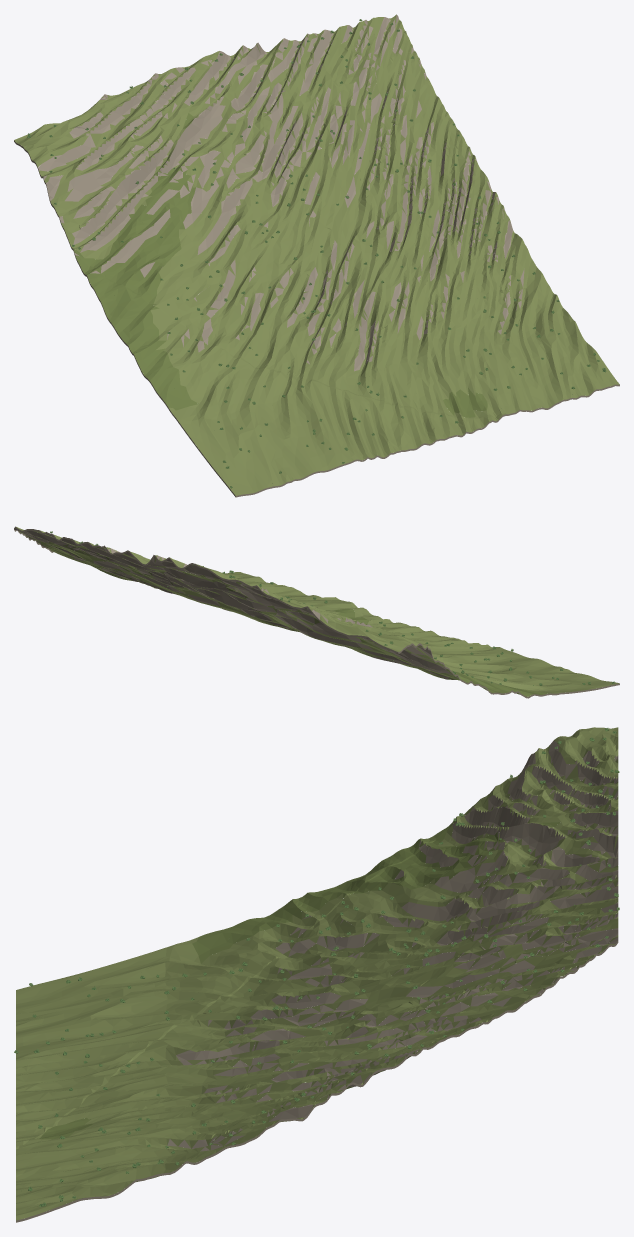
The model's file is parca_+5_-7-yakin.glb.
3 views of the same model, one above another, from view 1: azimuth 30°, elevation 25°; view 2: azimuth 150°, elevation 25°; view 3: azimuth 270°, elevation 25° (orthographic). The views are drawn at different scales.
Visible parts, largest first — view 1: parca_+5_-7_arazi, parca_+5_-7_bitkiler; view 2: parca_+5_-7_arazi, parca_+5_-7_bitkiler; view 3: parca_+5_-7_arazi, parca_+5_-7_bitkiler.
Part boxes in pixels (x1,y1,x2,y2): parca_+5_-7_arazi: [14, 14, 619, 497]; parca_+5_-7_bitkiler: [27, 19, 606, 488]; parca_+5_-7_arazi: [14, 526, 619, 698]; parca_+5_-7_bitkiler: [50, 531, 614, 685]; parca_+5_-7_arazi: [16, 727, 618, 1222]; parca_+5_-7_bitkiler: [14, 728, 619, 1206].
Bounding box in the file's own units: 1001 × 587 × 1006.
